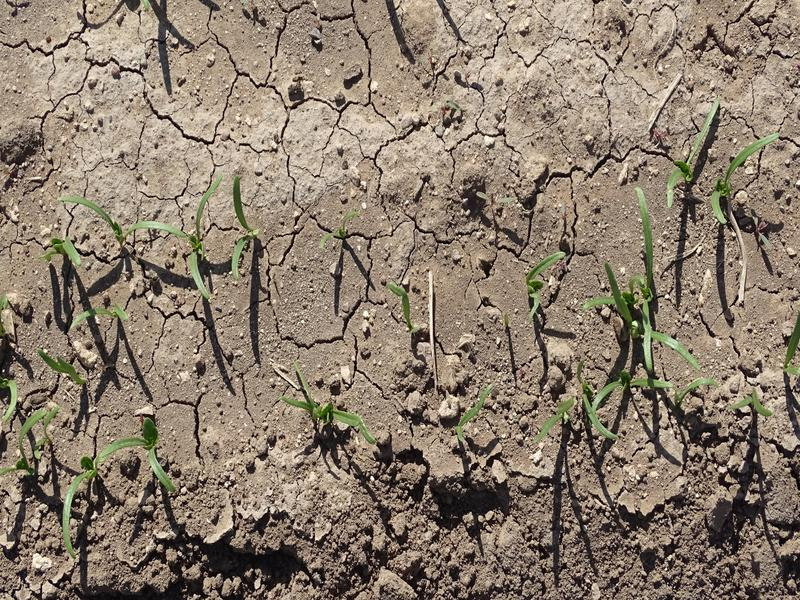Espinaca: (47, 173, 255, 289), (587, 196, 712, 371), (545, 376, 773, 432), (670, 108, 778, 225), (61, 437, 173, 539), (284, 370, 373, 442), (1, 375, 50, 478), (452, 383, 495, 443), (319, 201, 361, 254), (379, 276, 420, 329), (61, 302, 137, 328)
